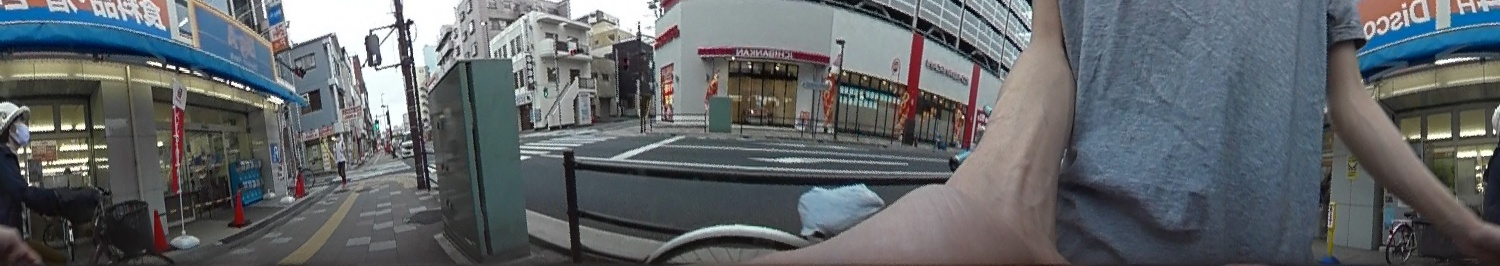person: (0, 96, 99, 266), (331, 127, 348, 187)
